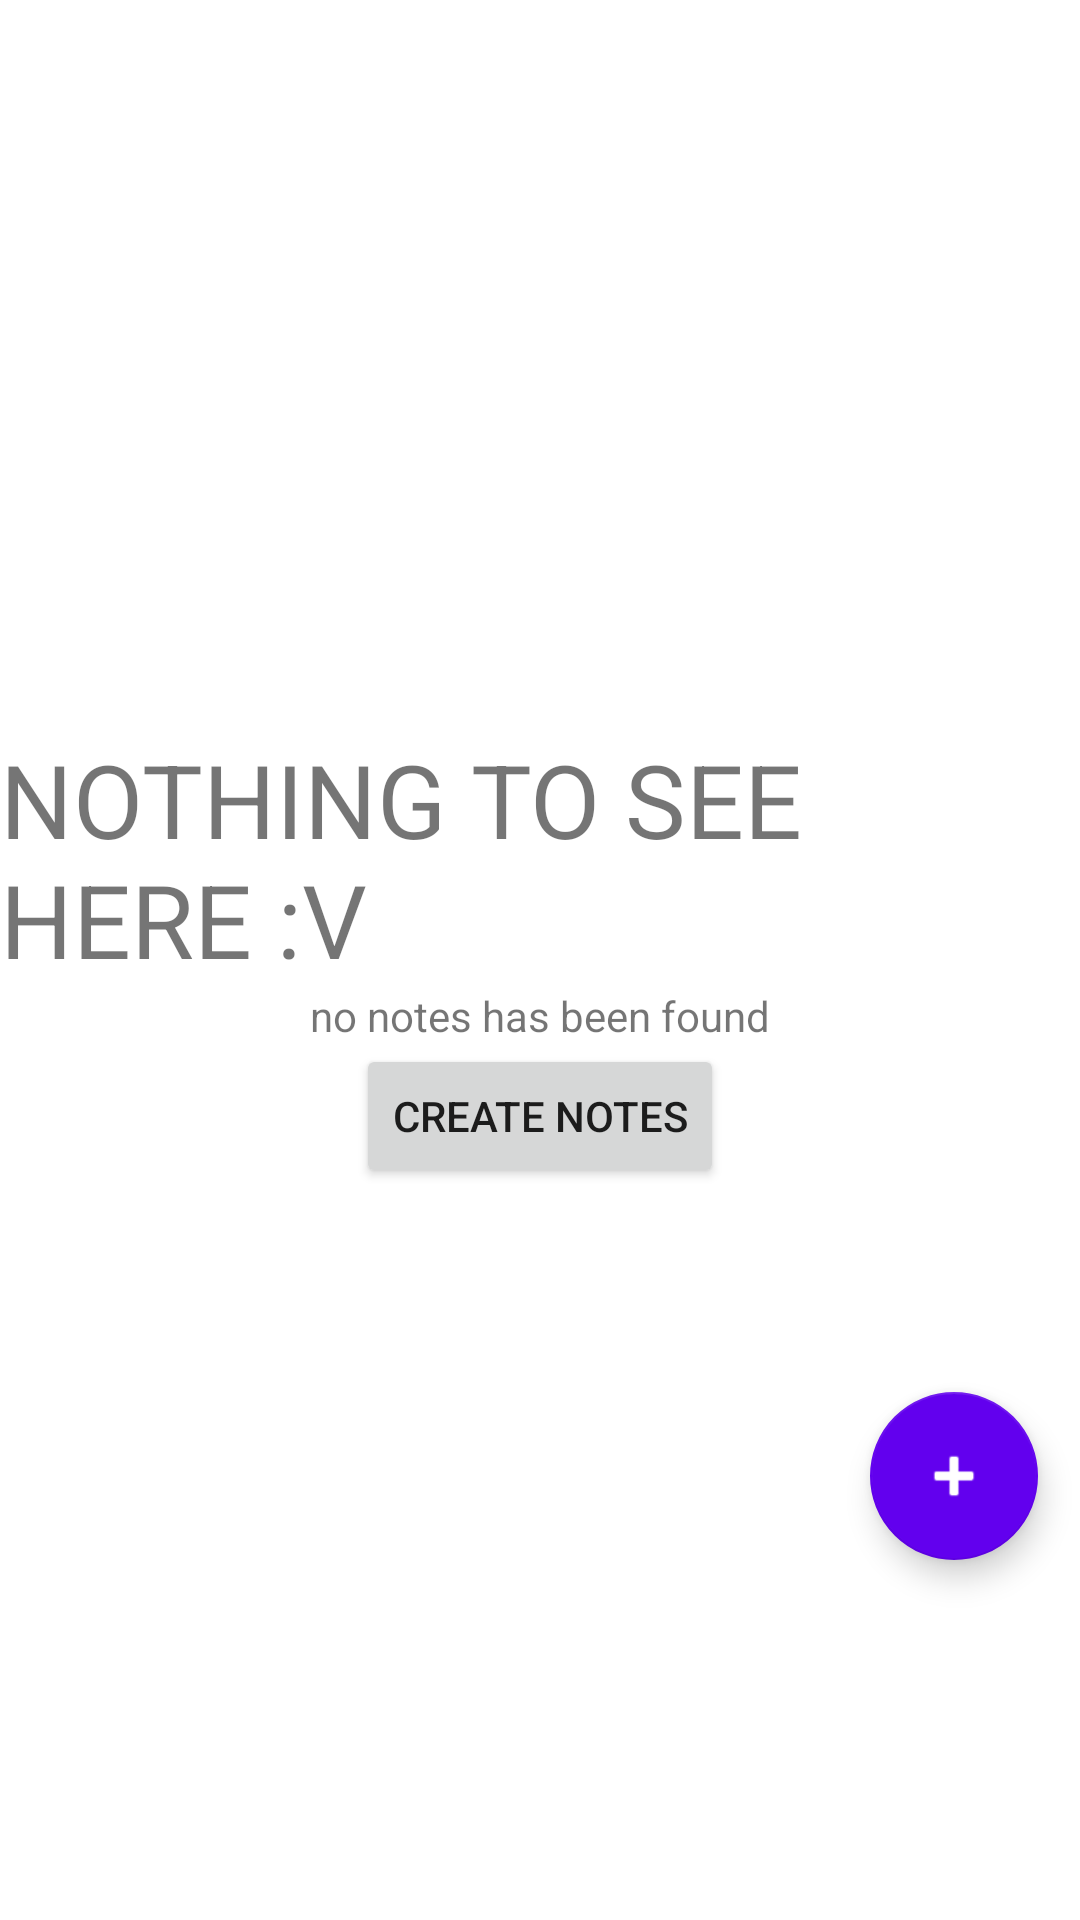

Icon click points for this 1080w x 1920h phone screenshot, format (x=x, y=y):
add: (x=954, y=1476)
